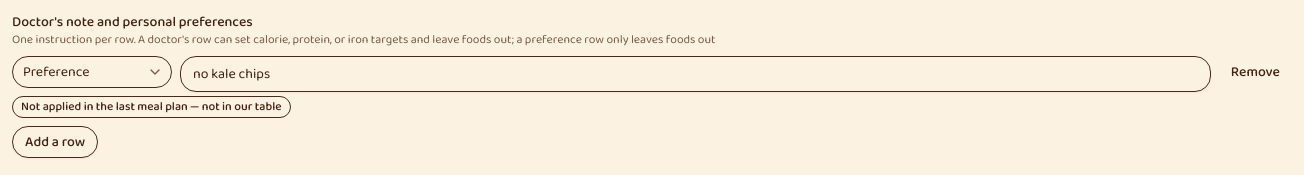
Test: ChildNotesFields › marks a row the last plan could not apply, and clears the mark once edited
Replace the text in the field named "Instruction" with "no kale". click: (695, 74)
box: x1=180 y1=56 x2=1211 y2=92
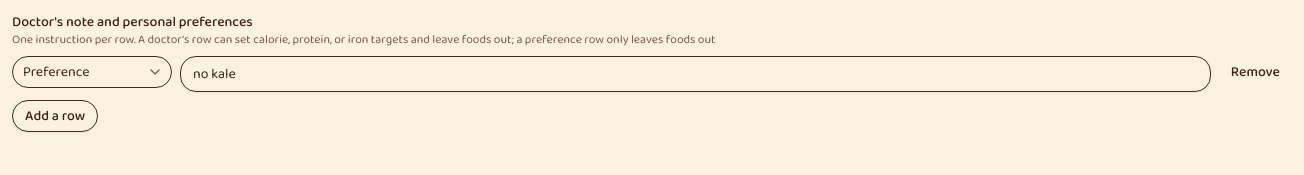
Now the text with test id "note-not-applied" is gone
